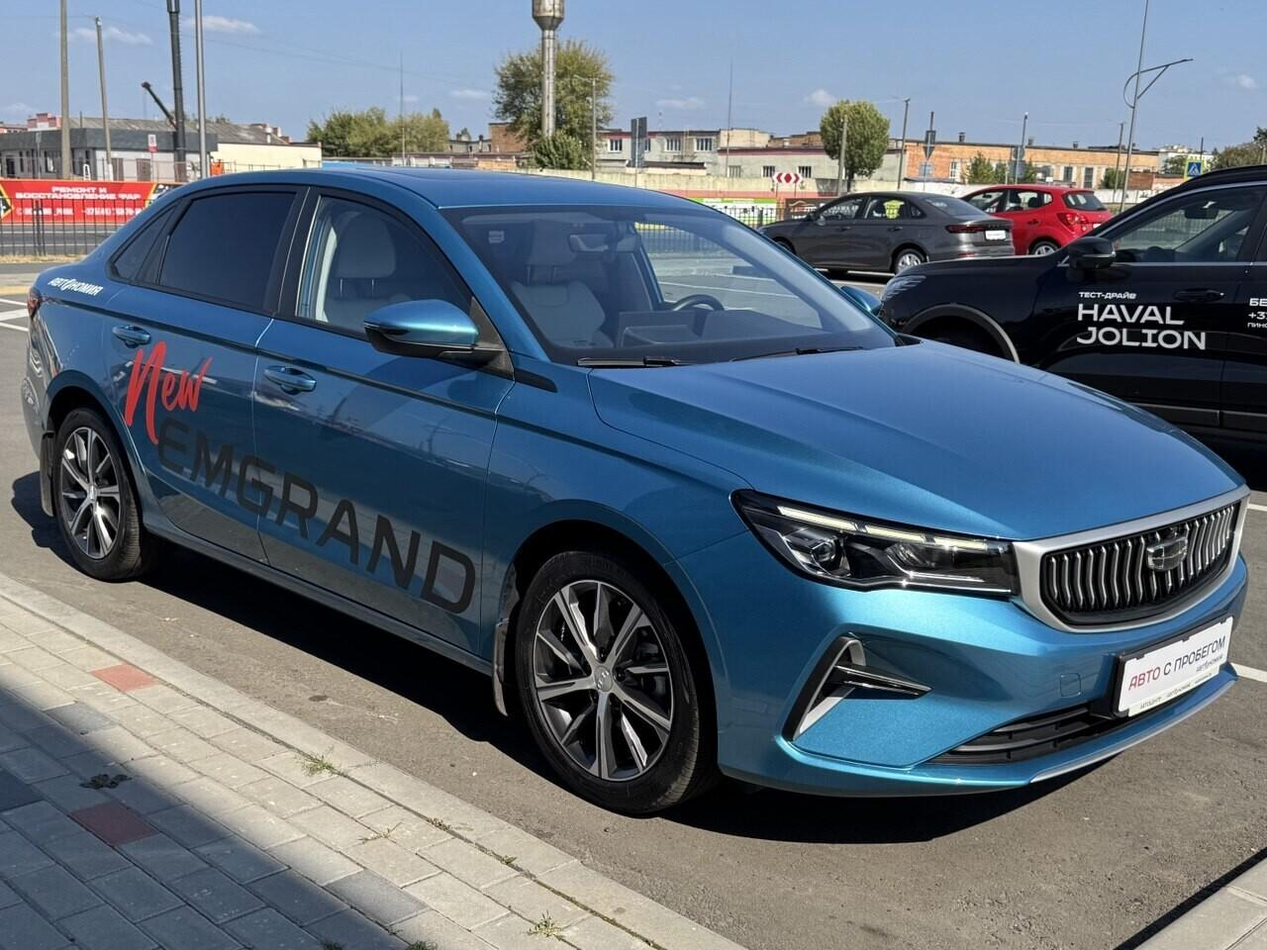Emgrand_2021: (20, 166, 1248, 813)
